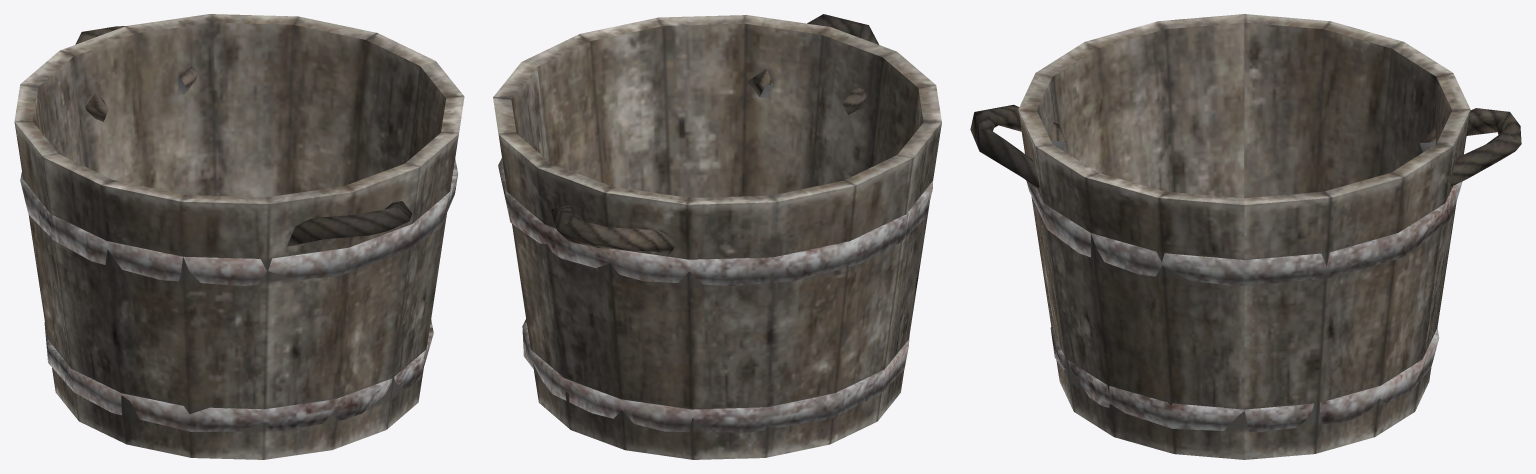
Rendered from SM_Bucket_1.FBX.
3 views of the same model, side by side, from view 1: azimuth 30°, elevation 25°; view 2: azimuth 150°, elevation 25°; view 3: azimuth 270°, elevation 25° (orthographic).
Visible parts, largest first — view 1: SM_Bucket_1; view 2: SM_Bucket_1; view 3: SM_Bucket_1.
Boxes of the visible parts, x1,y1,x2,y2 form: SM_Bucket_1: (14, 14, 464, 459); SM_Bucket_1: (493, 14, 941, 459); SM_Bucket_1: (970, 14, 1521, 459).
Size of the model in its own units: 59.7 by 39.66 by 72.74.
